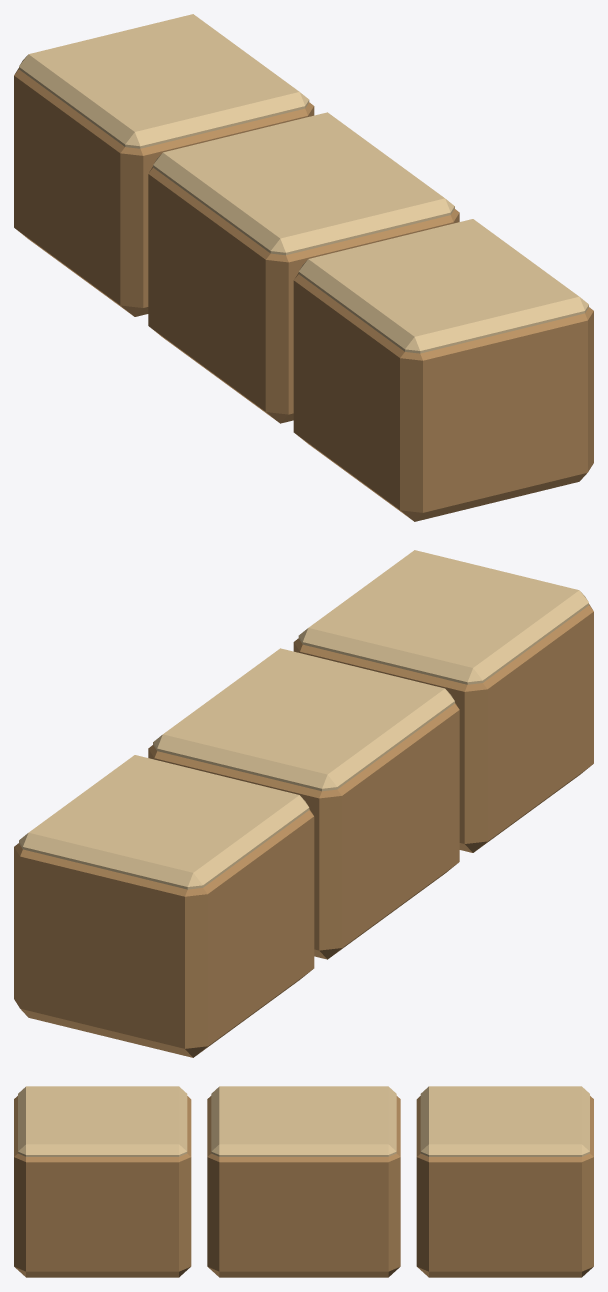
File: ponte-cabeceira.glb
3 views of the same model, one above another, from view 1: azimuth 30°, elevation 25°; view 2: azimuth 150°, elevation 25°; view 3: azimuth 270°, elevation 25° (orthographic). The views are drawn at different scales.
Visible parts, largest first — view 1: Cabeceira; view 2: Cabeceira; view 3: Cabeceira.
Boxes of the visible parts, x1,y1,x2,y2 form: Cabeceira: (14,14,593,521); Cabeceira: (14,550,593,1057); Cabeceira: (14,1086,593,1277).
Bounding box in the file's own units: 0.4 × 0.365 × 1.44.
